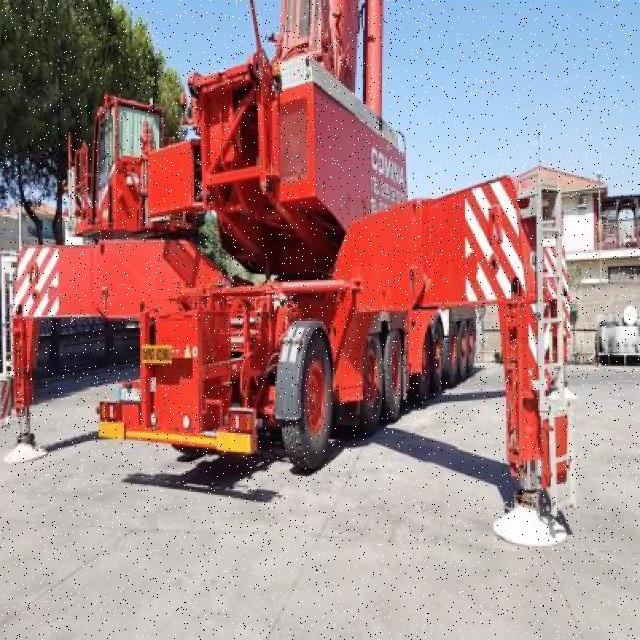Mobile Crane: (0, 0, 571, 541)
